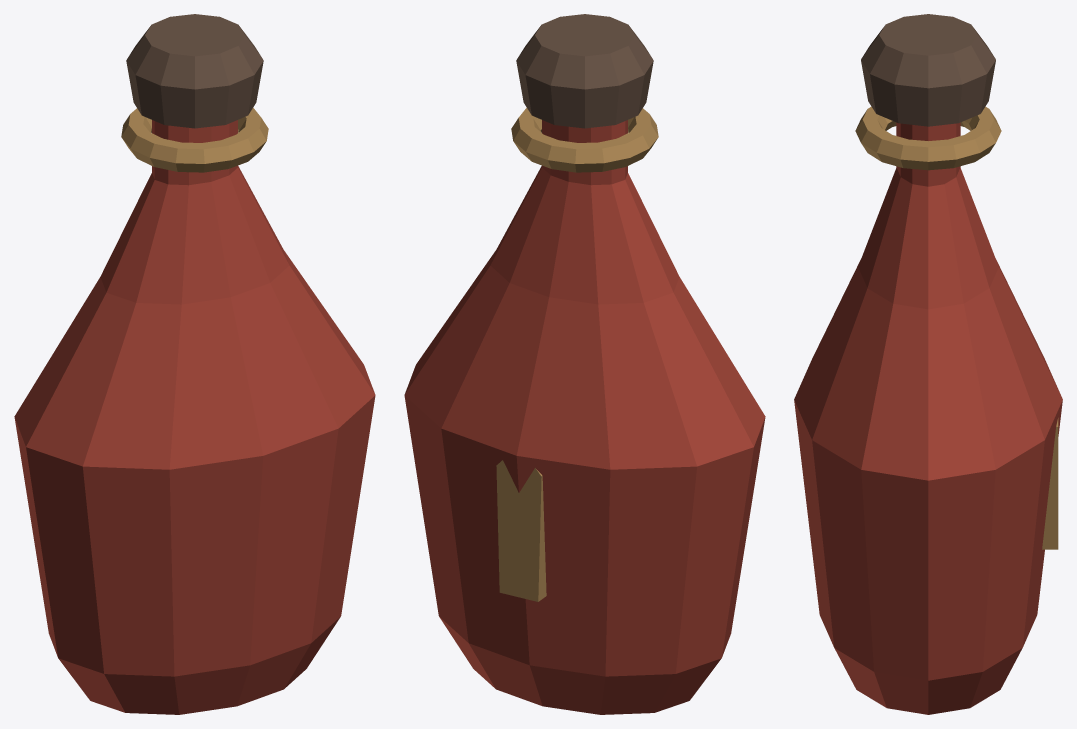
Rendered from AE_Item_EmberHeart.fbx.
The picture shows the model from 3 angles, left to right: view 1: azimuth 30°, elevation 25°; view 2: azimuth 150°, elevation 25°; view 3: azimuth 270°, elevation 25°; orthographic projection.
Visible parts, largest first — view 1: AE_Item_EmberHeart; view 2: AE_Item_EmberHeart; view 3: AE_Item_EmberHeart.
Boxes of the visible parts, <box> form: AE_Item_EmberHeart: <box>14,14,375,714</box>; AE_Item_EmberHeart: <box>404,14,765,714</box>; AE_Item_EmberHeart: <box>794,14,1062,714</box>.
Bounding box in the file's own units: 0.21 × 0.38 × 0.147.
